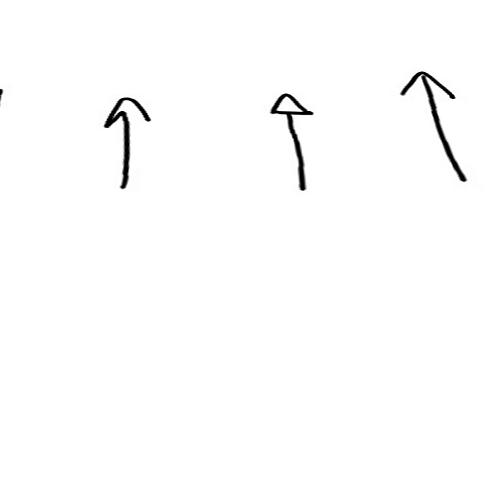arrow: (400, 66, 469, 189), (101, 94, 150, 188), (269, 95, 313, 192)
